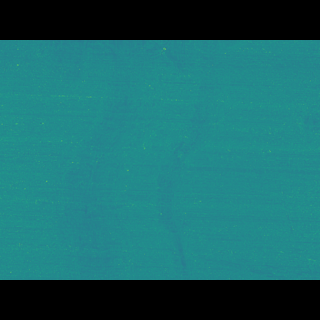Loch: (42, 69, 245, 252)
